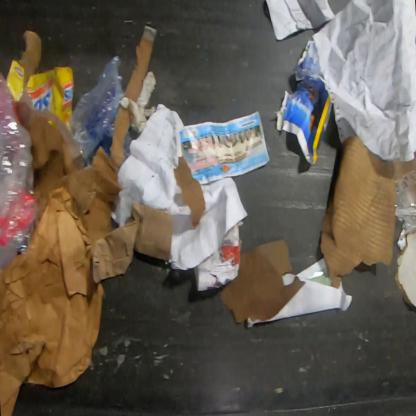cardboard: (0, 187, 105, 416), (15, 92, 133, 245), (90, 202, 174, 284), (5, 59, 75, 136), (192, 220, 244, 292), (124, 25, 158, 102), (394, 232, 415, 308), (16, 28, 43, 84)
soft_plastic: (0, 67, 38, 269), (68, 54, 127, 167), (394, 170, 415, 237), (124, 127, 140, 162)
